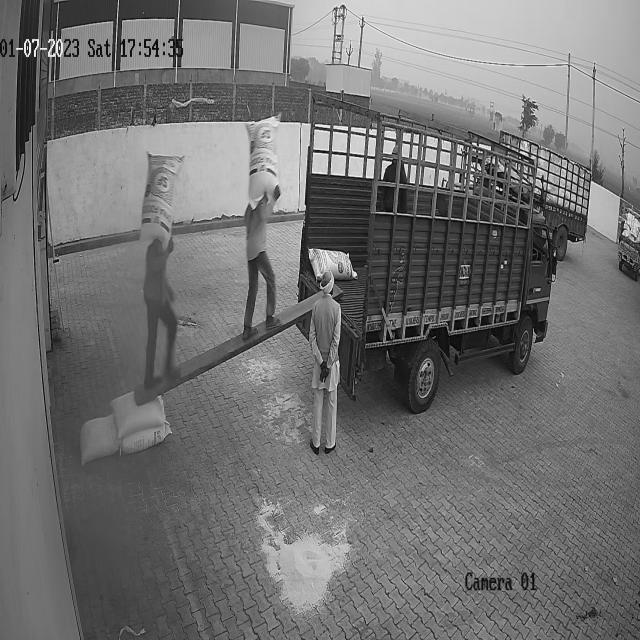sack: (141, 151, 183, 248), (245, 114, 280, 210), (110, 392, 165, 436), (79, 413, 118, 463), (308, 246, 356, 282), (121, 422, 171, 453)
